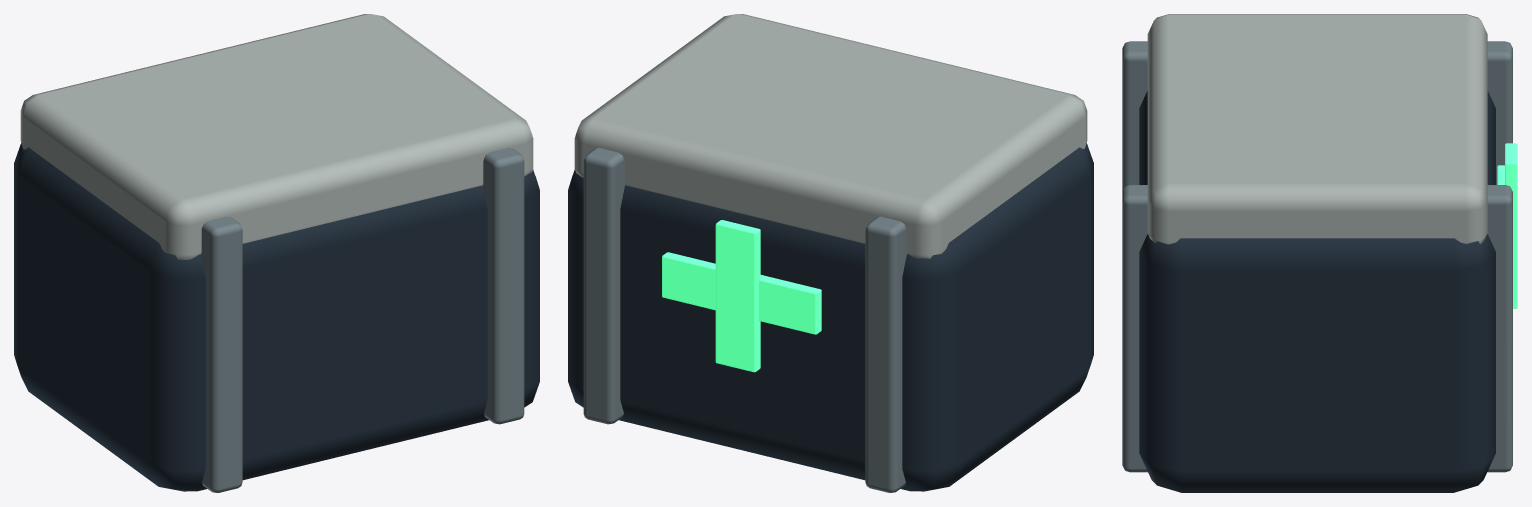
Rendered from supply-case.glb.
3 views of the same model, side by side, from view 1: azimuth 30°, elevation 25°; view 2: azimuth 150°, elevation 25°; view 3: azimuth 270°, elevation 25° (orthographic). The views are drawn at different scales.
Visible parts, largest first — view 1: Recovery supply case / Graphite polymer, Recovery supply case / Ceramic armor, Recovery supply case / Brushed titanium; view 2: Recovery supply case / Graphite polymer, Recovery supply case / Ceramic armor, Recovery supply case / Brushed titanium, Recovery supply case / Medical indicator; view 3: Recovery supply case / Graphite polymer, Recovery supply case / Ceramic armor, Recovery supply case / Brushed titanium, Recovery supply case / Medical indicator.
Part boxes in pixels (<box>): Recovery supply case / Graphite polymer: <box>14,143,539,491</box>; Recovery supply case / Ceramic armor: <box>20,14,533,259</box>; Recovery supply case / Brushed titanium: <box>201,148,524,492</box>; Recovery supply case / Graphite polymer: <box>568,143,1093,491</box>; Recovery supply case / Ceramic armor: <box>574,14,1087,258</box>; Recovery supply case / Brushed titanium: <box>583,148,906,492</box>; Recovery supply case / Medical indicator: <box>662,220,821,372</box>; Recovery supply case / Graphite polymer: <box>1139,91,1495,492</box>; Recovery supply case / Ceramic armor: <box>1147,14,1487,244</box>; Recovery supply case / Brushed titanium: <box>1122,41,1512,472</box>; Recovery supply case / Medical indicator: <box>1497,143,1517,308</box>.
Size of the model in its own units: 0.55 by 0.405 by 0.4655.
